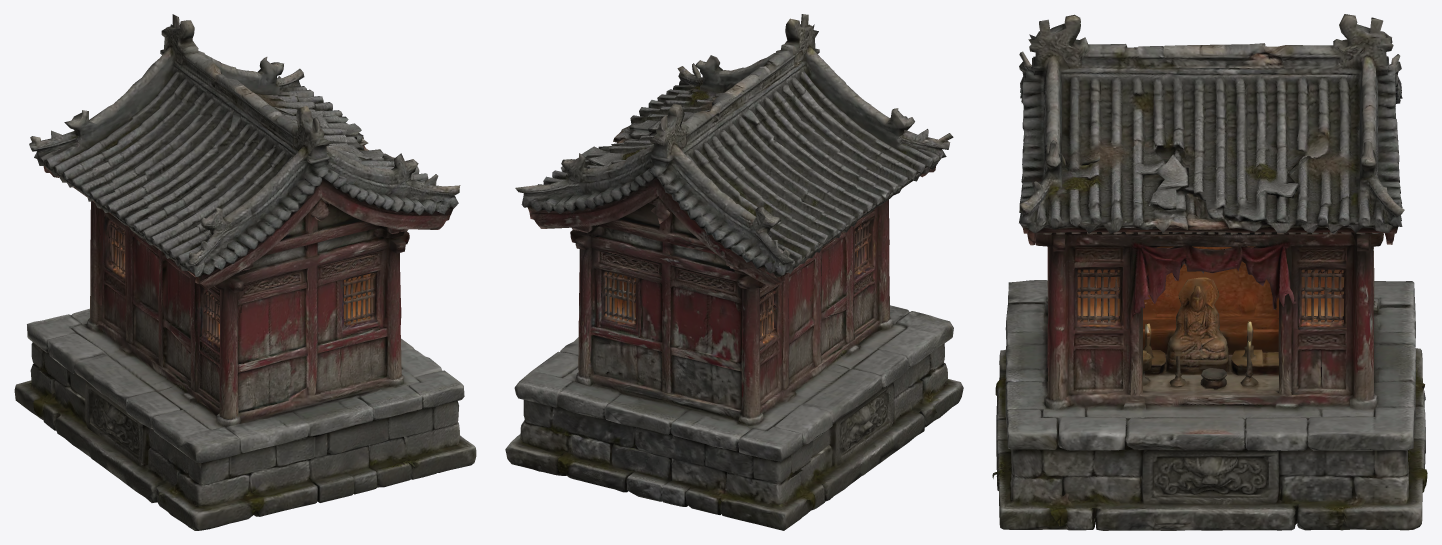
3 renders of one model, left to right at view 1: azimuth 30°, elevation 25°; view 2: azimuth 150°, elevation 25°; view 3: azimuth 270°, elevation 25°, orthographic. The views are drawn at different scales.
Visible parts, largest first — view 1: tripo_node_61cca51c-74e2-4a1f-b714-c80712c4e710; view 2: tripo_node_61cca51c-74e2-4a1f-b714-c80712c4e710; view 3: tripo_node_61cca51c-74e2-4a1f-b714-c80712c4e710.
Part boxes in pixels (<box>): tripo_node_61cca51c-74e2-4a1f-b714-c80712c4e710: <box>14,14,476,530</box>; tripo_node_61cca51c-74e2-4a1f-b714-c80712c4e710: <box>505,14,963,530</box>; tripo_node_61cca51c-74e2-4a1f-b714-c80712c4e710: <box>992,14,1427,530</box>.
Bounding box in the file's own units: 0.8238 × 1 × 0.9058.
1 material, 1 textured.
